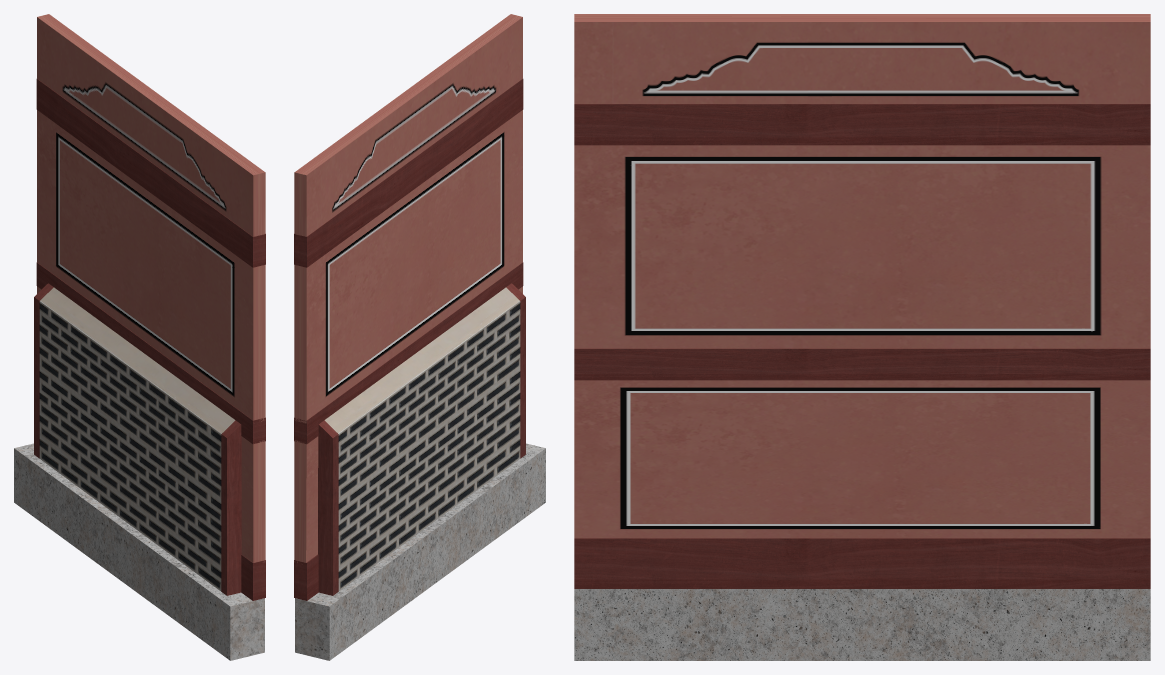
Rendered from SM_Wall07G.fbx.
The picture shows the model from 3 angles, left to right: view 1: azimuth 30°, elevation 25°; view 2: azimuth 150°, elevation 25°; view 3: azimuth 270°, elevation 25°; orthographic projection. The views are drawn at different scales.
Visible parts, largest first — view 1: SM_Wall07G; view 2: SM_Wall07G; view 3: SM_Wall07G.
Part boxes in pixels (bbox=[...]): SM_Wall07G: bbox=[14, 14, 265, 660]; SM_Wall07G: bbox=[294, 14, 545, 660]; SM_Wall07G: bbox=[574, 14, 1150, 660].
Size of the model in its own units: 24.59 by 260 by 318.
